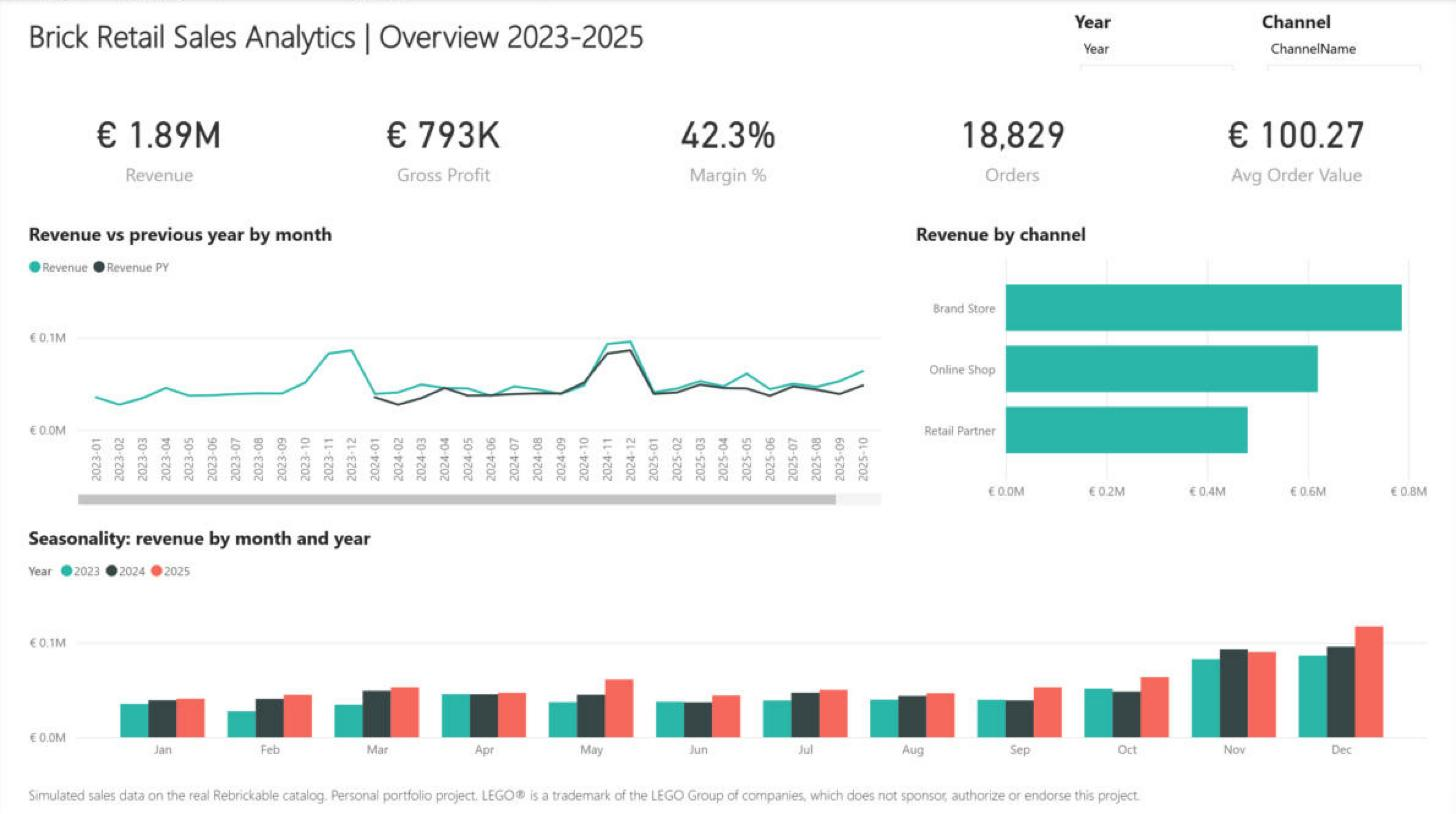

This screenshot's page, from the dashboard's own definition file:
{"tool":"powerbi","page":{"name":"Overview","canvas":[1280,720],"ordinal":0},"visuals":[{"type":"textbox","box":[20,8,900,50],"z":0},{"type":"slicer","title":"Year","fields":{"Values":["Date.Year"]},"box":[940,8,155,56],"z":1000},{"type":"slicer","title":"Channel","fields":{"Values":["vw_SalesLines.ChannelName"]},"box":[1105,8,155,56],"z":2000},{"type":"card","fields":{"Values":["vw_SalesLines.Revenue"]},"box":[20,72,240,110],"z":3000},{"type":"card","fields":{"Values":["vw_SalesLines.Gross Profit"]},"box":[270,72,240,110],"z":4000},{"type":"card","fields":{"Values":["vw_SalesLines.Margin %"]},"box":[520,72,240,110],"z":5000},{"type":"card","fields":{"Values":["vw_SalesLines.Orders"]},"box":[770,72,240,110],"z":6000},{"type":"card","fields":{"Values":["vw_SalesLines.Avg Order Value"]},"box":[1020,72,240,110],"z":7000},{"type":"lineChart","title":"Revenue vs previous year by month","fields":{"Category":["Date.Year Month"],"Y":["vw_SalesLines.Revenue","vw_SalesLines.Revenue PY"]},"box":[20,195,760,255],"z":8000},{"type":"clusteredBarChart","title":"Revenue by channel","fields":{"Category":["vw_SalesLines.ChannelName"],"Y":["vw_SalesLines.Revenue"]},"box":[800,195,460,255],"z":9000},{"type":"clusteredColumnChart","title":"Seasonality: revenue by month and year","fields":{"Category":["Date.Month"],"Series":["Date.Year"],"Y":["vw_SalesLines.Revenue"]},"box":[20,462,1240,215],"z":10000},{"type":"textbox","box":[20,684,1100,30],"z":11000}]}

Visuals, with their boxes in screenshot pixels (x1, y1, x2, y2), scaled from the page's 1280x720 canvas onto the 1456x814 screenshot:
textbox: [23, 9, 1046, 66]
"Year" slicer: [1069, 9, 1246, 72]
"Channel" slicer: [1257, 9, 1433, 72]
card - vw_SalesLines.Revenue: [23, 81, 296, 206]
card - vw_SalesLines.Gross Profit: [307, 81, 580, 206]
card - vw_SalesLines.Margin %: [592, 81, 864, 206]
card - vw_SalesLines.Orders: [876, 81, 1149, 206]
card - vw_SalesLines.Avg Order Value: [1160, 81, 1433, 206]
"Revenue vs previous year by month" lineChart: [23, 220, 887, 509]
"Revenue by channel" clusteredBarChart: [910, 220, 1433, 509]
"Seasonality: revenue by month and year" clusteredColumnChart: [23, 522, 1433, 765]
textbox: [23, 773, 1274, 807]
